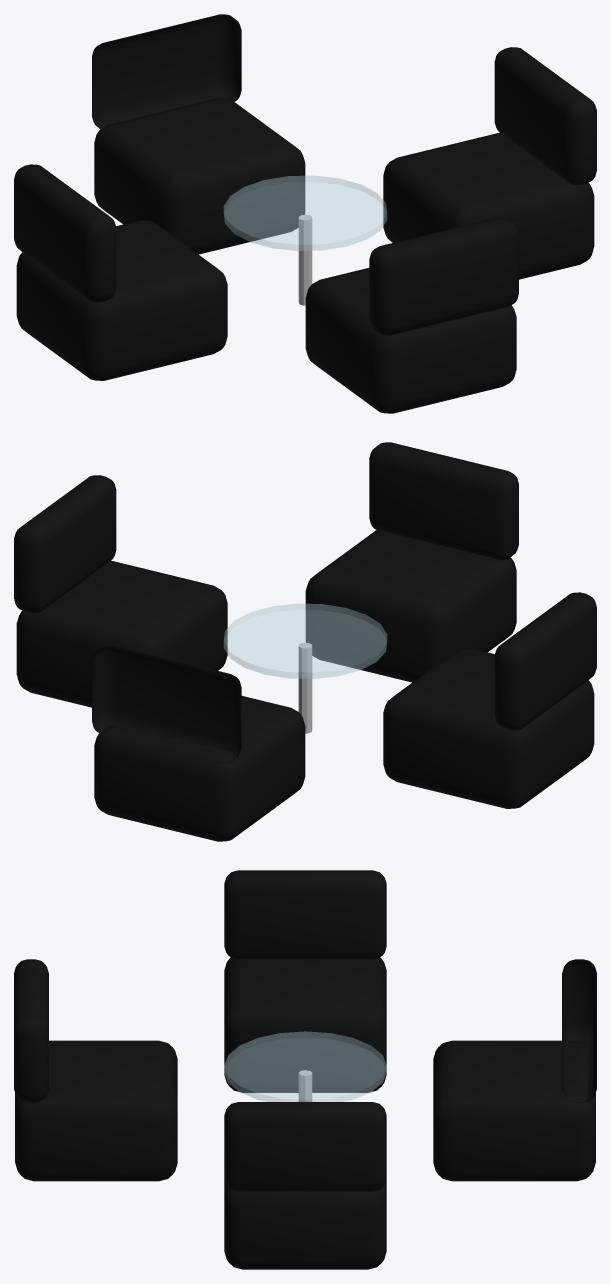
Rendered from airport.gate.lounge_set.glb.
3 views of the same model, one above another, from view 1: azimuth 30°, elevation 25°; view 2: azimuth 150°, elevation 25°; view 3: azimuth 270°, elevation 25° (orthographic).
Visible parts, largest first — view 1: main__leather_black, main__glass, main__steel_stainless; view 2: main__leather_black, main__glass, main__steel_stainless; view 3: main__leather_black, main__glass.
Part boxes in pixels (x1,y1,x2,y2): main__leather_black: (14,14,596,413); main__glass: (224,176,386,250); main__steel_stainless: (298,214,312,305); main__leather_black: (14,442,596,841); main__glass: (224,604,386,678); main__steel_stainless: (298,642,312,733); main__leather_black: (14,870,596,1269); main__glass: (224,1031,386,1101).
Bounding box in the file's own units: 2.51 × 0.8 × 2.51.
